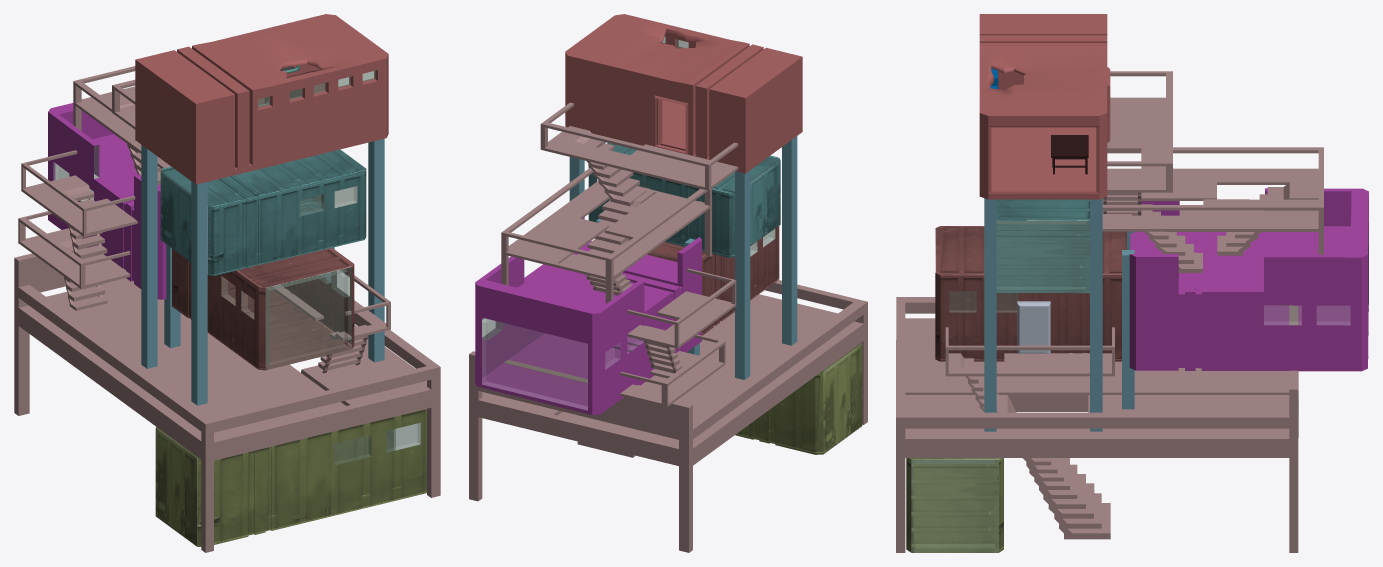
The model's file is Container_Main.fbx.
The picture shows the model from 3 angles, left to right: view 1: azimuth 30°, elevation 25°; view 2: azimuth 150°, elevation 25°; view 3: azimuth 270°, elevation 25°; orthographic projection. The views are drawn at different scales.
Visible parts, largest first — view 1: pasted__pasted___pCube49, polySurface1, pCube72, pCube6, pCube71, pCube25, pasted__pasted___pCube48, pasted__pasted___pCube50, pCube63, pCube64, pCube62, pasted__pasted___pCube45 (+3 smaller); view 2: pasted__pasted___pCube49, polySurface1, pCube25, pasted__pasted___pCube45, pCube72, pasted__pasted___pCube42, pCube6, pasted__pasted___pCube48, pCube71, pCube64, pCube63, pasted__pasted___pCube50 (+2 smaller); view 3: pasted__pasted___pCube49, pCube25, polySurface1, pasted__pasted___pCube45, pCube71, pCube72, pCube6, pasted__pasted___pCube42, pasted__pasted___pCube57, pCube62, pCube58, pasted__pasted__pCube94 (+2 smaller).
Boxes of the visible parts, x1,y1,x2,y2 form: pasted__pasted___pCube49: (14, 253, 440, 552); polySurface1: (135, 14, 388, 184); pCube72: (155, 409, 426, 546); pCube6: (160, 149, 366, 275); pCube71: (172, 248, 354, 370); pCube25: (48, 103, 166, 299); pasted__pasted___pCube48: (21, 150, 137, 259); pasted__pasted___pCube50: (18, 211, 130, 310); pCube63: (191, 181, 207, 405); pCube64: (141, 145, 157, 368); pCube62: (368, 138, 384, 362); pasted__pasted___pCube45: (73, 66, 170, 184); pasted__pasted___pCube49: (469, 280, 867, 552); polySurface1: (565, 14, 802, 173); pCube25: (475, 217, 701, 414); pasted__pasted___pCube45: (501, 168, 712, 303); pCube72: (735, 342, 862, 454); pasted__pasted___pCube42: (540, 102, 738, 206); pCube6: (588, 142, 780, 257); pasted__pasted___pCube48: (627, 268, 736, 373); pCube71: (629, 226, 779, 335); pCube64: (735, 170, 750, 379); pCube63: (782, 136, 797, 345); pasted__pasted___pCube50: (620, 334, 725, 407); pasted__pasted___pCube49: (896, 297, 1298, 552); pCube25: (1129, 188, 1368, 371); polySurface1: (979, 14, 1107, 199); pasted__pasted___pCube45: (1102, 147, 1323, 272); pCube71: (935, 226, 1126, 361); pCube72: (906, 458, 1003, 552); pCube6: (996, 199, 1089, 293); pasted__pasted___pCube42: (1103, 71, 1172, 215); pasted__pasted___pCube57: (945, 327, 1114, 412); pCube62: (984, 198, 996, 431); pCube58: (1090, 198, 1102, 431); pasted__pasted__pCube94: (1017, 301, 1050, 353).
Size of the model in its own units: 11.53 by 19.06 by 18.82.
Materials: 15 (3 with a texture image).
